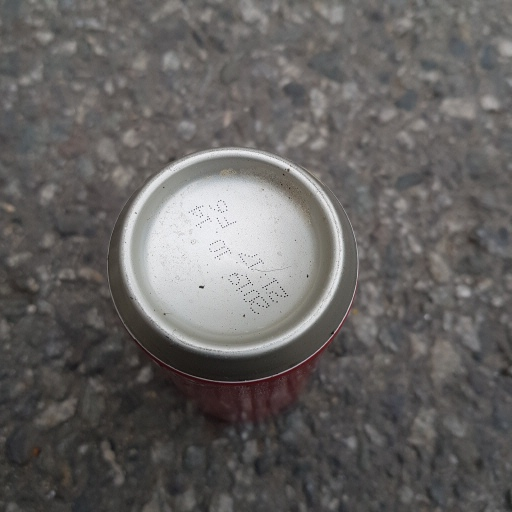Metal_0: (104, 150, 361, 422)
